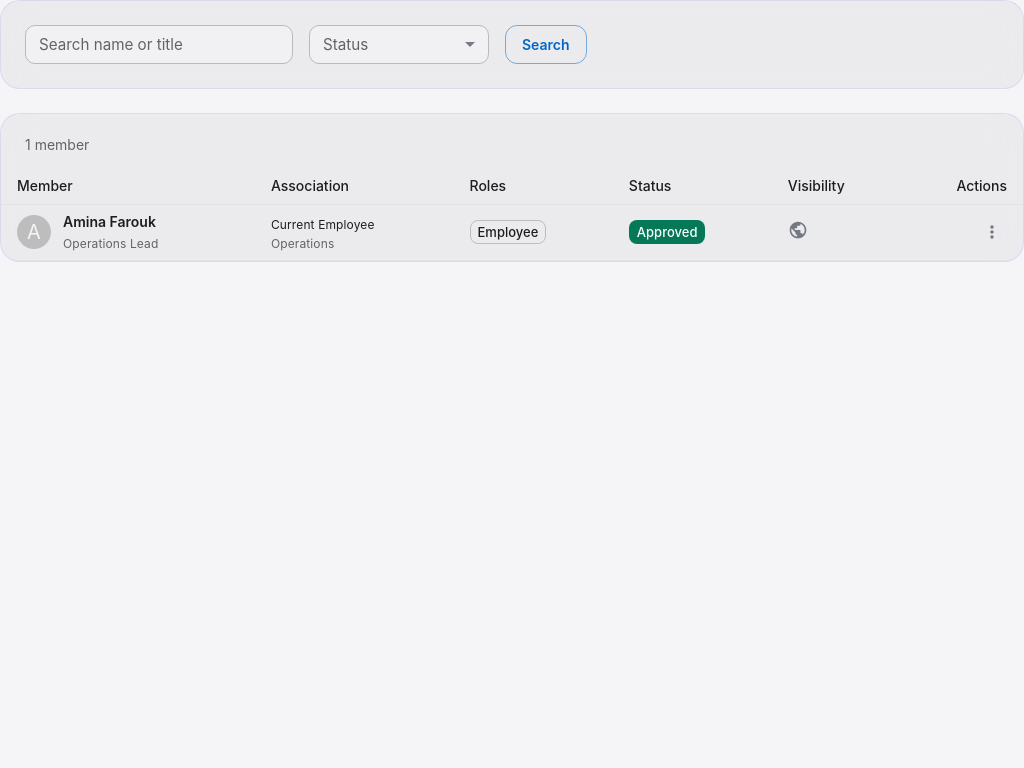
Scenario: CompanyTeam › offers a manager only the roles below their own
The image size is (1024, 768).
Click the button named "Actions for Amina Farouk": x=992, y=232 [977, 217, 1007, 247]
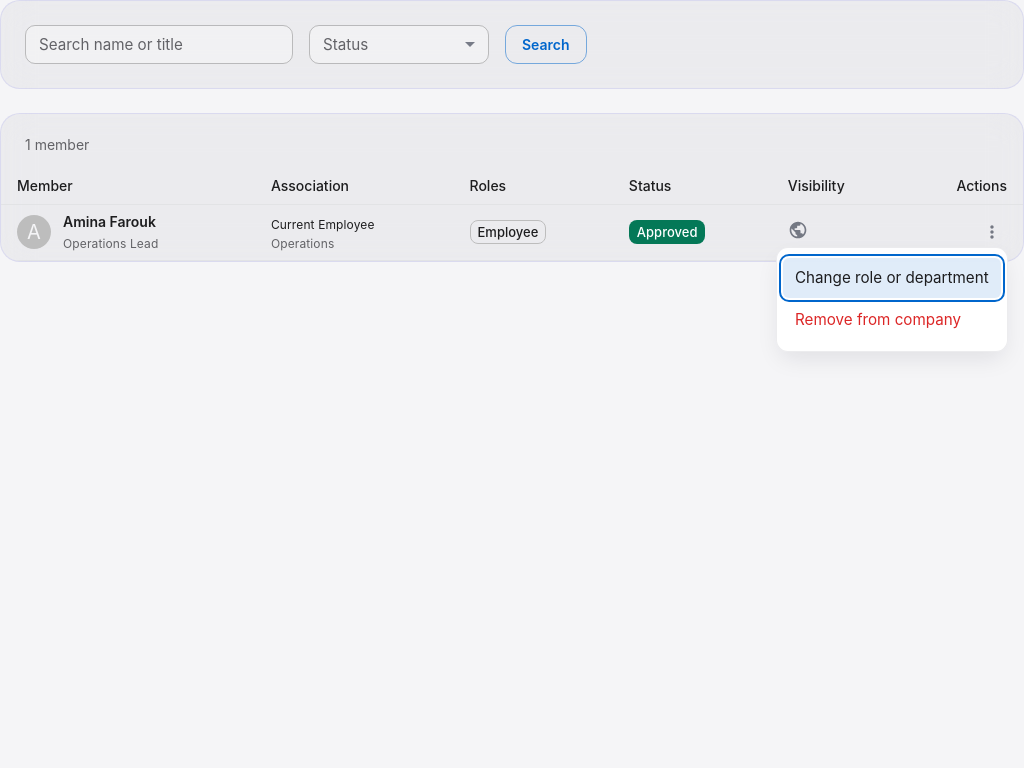
Click the menu item "Change role or department": x=892, y=278 [783, 258, 1001, 298]
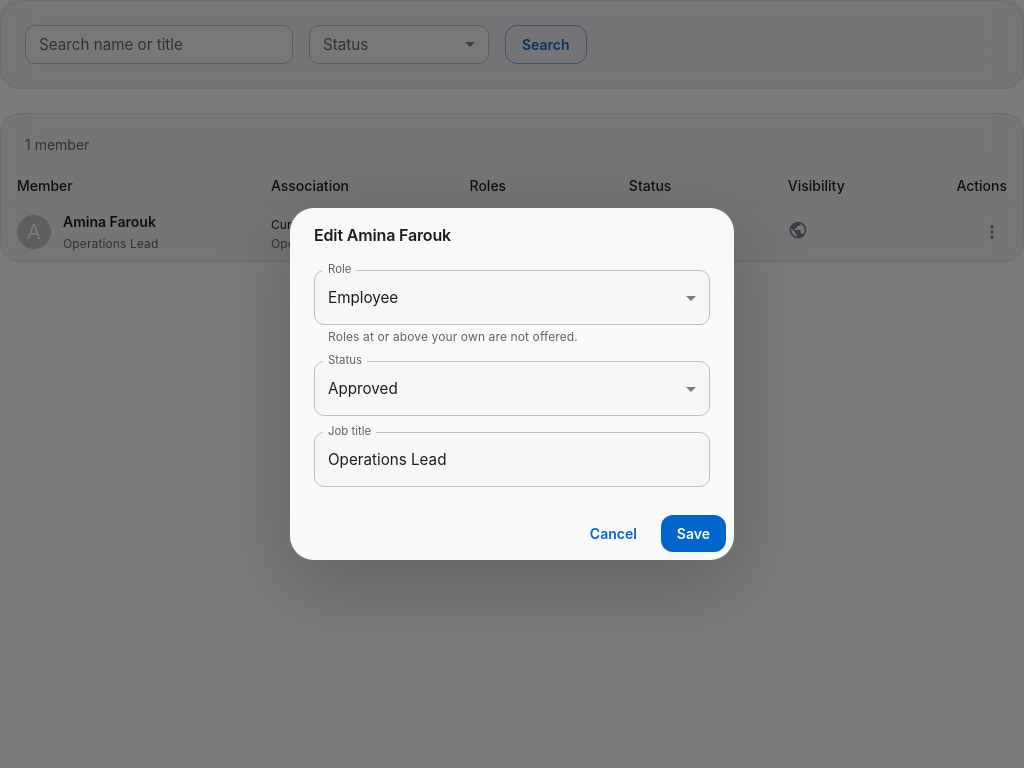
Click the dropdown named "Role": x=363, y=297 [328, 288, 398, 307]
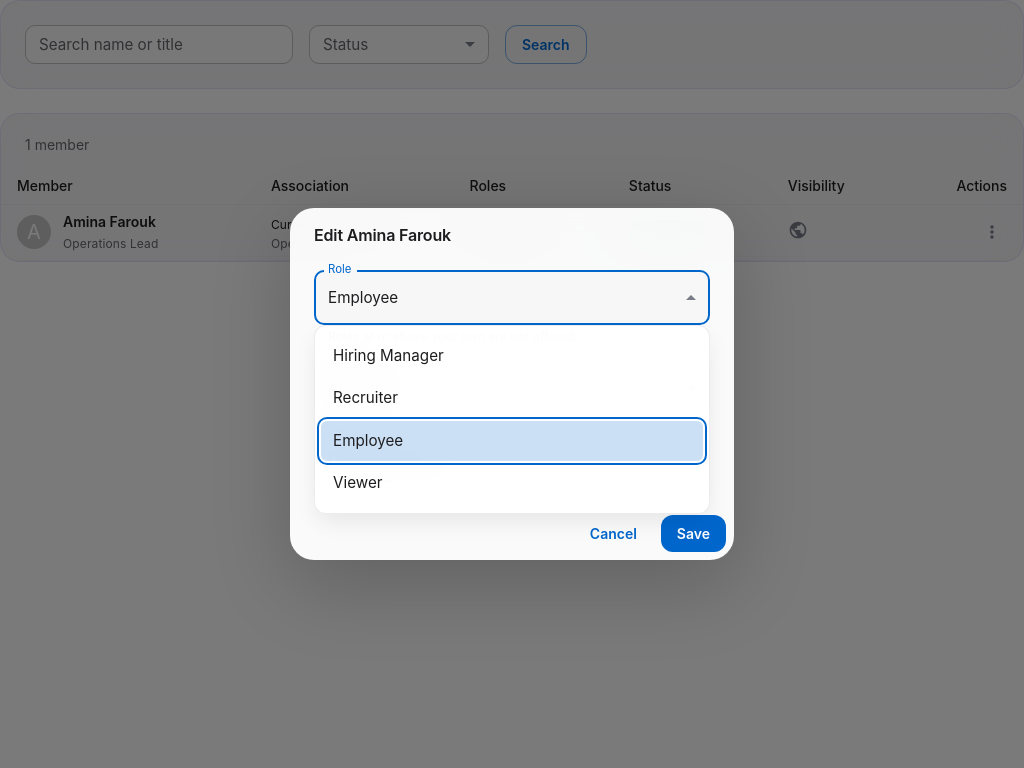
expect the options read "Hiring Manager", "Recruiter", "Employee", "Viewer", in this order: met, box [333, 346, 444, 365]; [333, 388, 398, 407]; [321, 421, 703, 461]; [333, 473, 382, 492]
